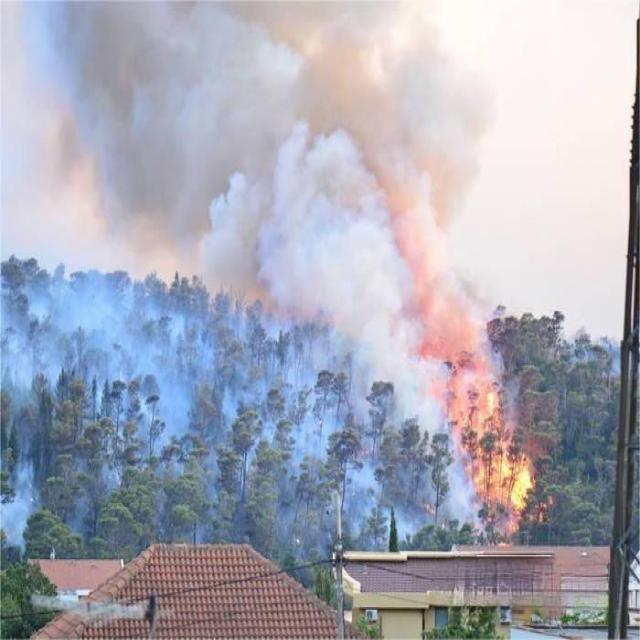Fire: (506, 452, 534, 513)
Smoke: (31, 0, 494, 364)
